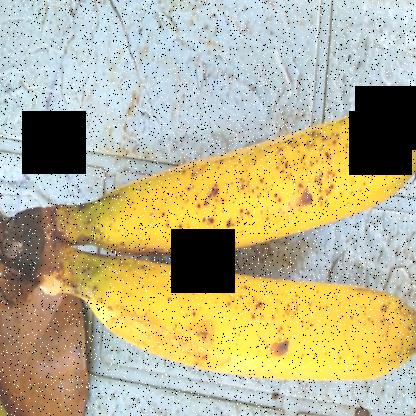ripe: (66, 97, 416, 276), (87, 242, 415, 415)
